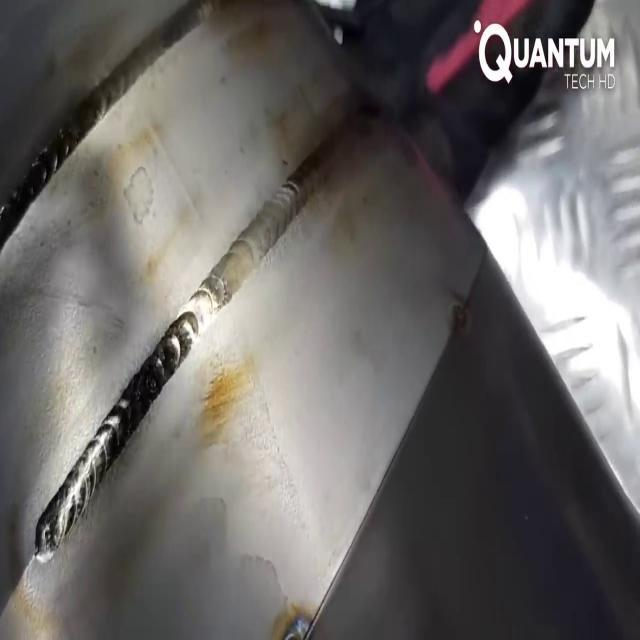Good Welding: (39, 314, 187, 521), (192, 135, 316, 333)
